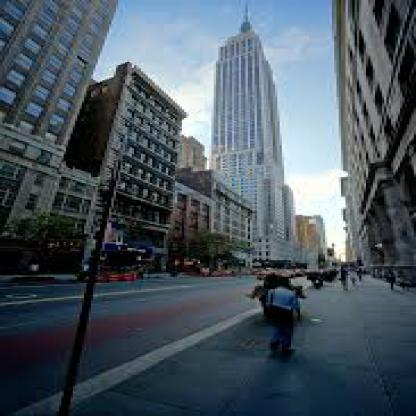Empire-State-building: (209, 0, 289, 188)
